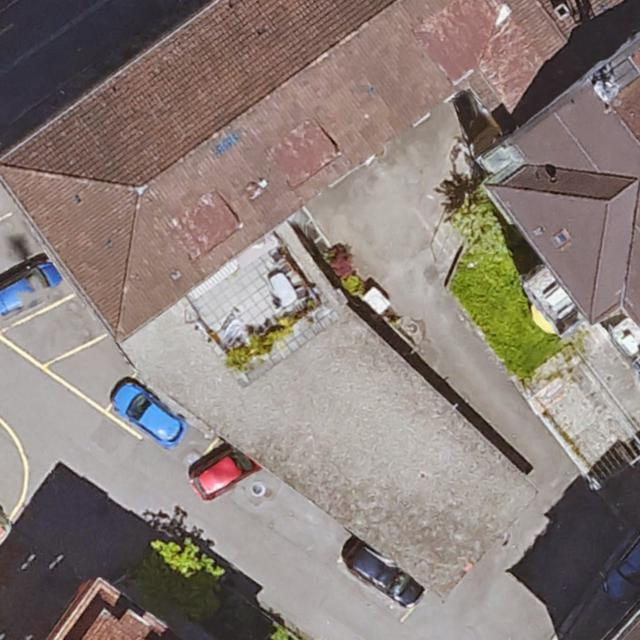tree: (129, 532, 223, 615)
